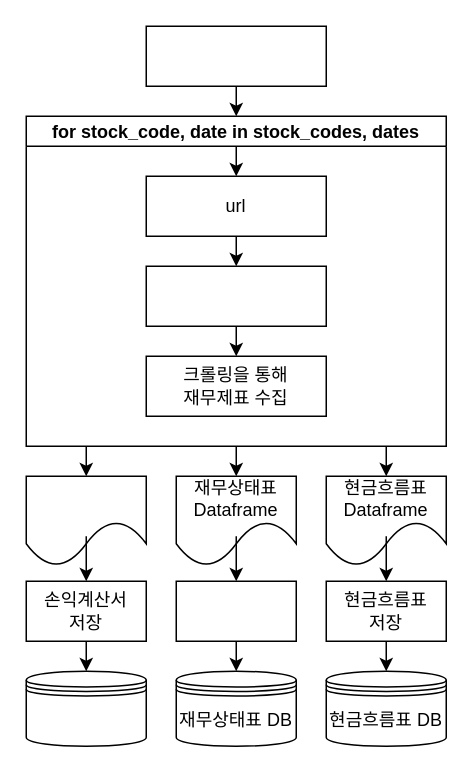
Image size: 473x773. Some labels were removed from this diagram. The shapes that lost their labels are listed below. From the top down, each one's centre as x and y in pixels, then its label:
At [235,55]: "종목 지정, dates 지정".
At [235,295]: "krx에서 모든 종목 코드 수집".
At [85,520]: "손익계산서 Dataframe".
At [235,610]: "재무상태표 저장".
At [85,708]: "손익계산서 DB".
